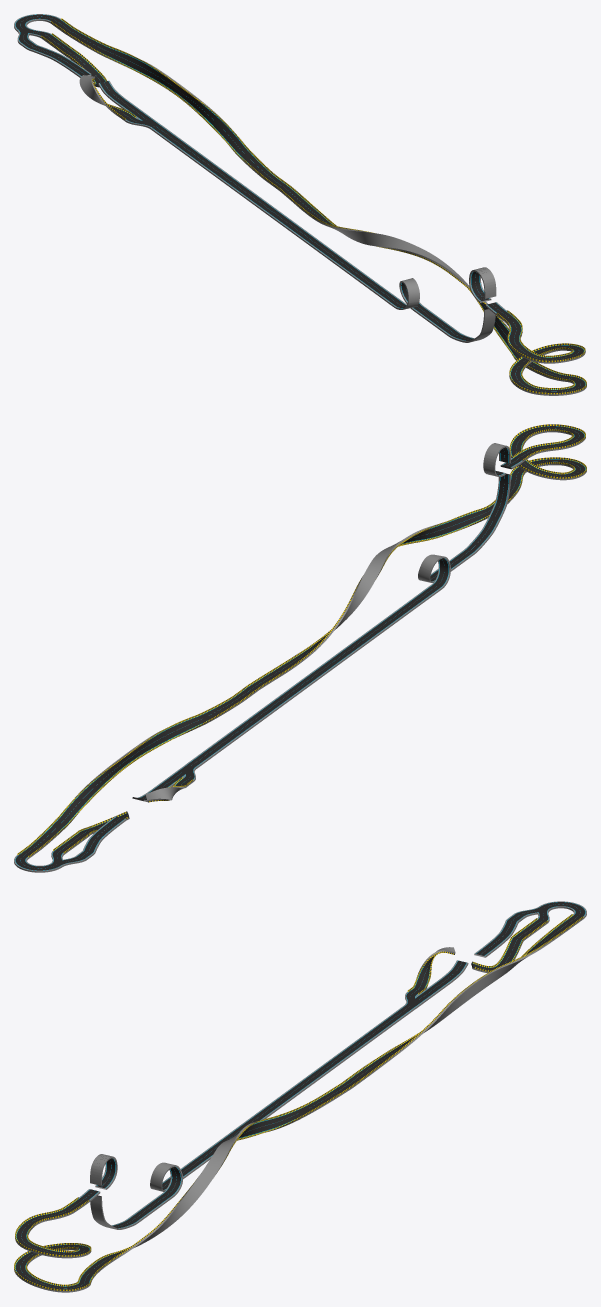
The model's file is Gravity Track Test 4.fbx.
3 views of the same model, one above another, from view 1: azimuth 30°, elevation 25°; view 2: azimuth 150°, elevation 25°; view 3: azimuth 330°, elevation 25° (orthographic).
Visible parts, largest first — view 1: Track Example .035, Track Example .031, Track Example .029, Straight Ahead Wall.067, Straight Ahead Wall.066, Track Example .032, Track Example .028, Track Example .027, Track Example .034, Track Example .030, Track Example .026; view 2: Track Example .035, Track Example .031, Track Example .029, Straight Ahead Wall.067, Track Example .034, Straight Ahead Wall.066, Track Example .028, Track Example .032; view 3: Track Example .035, Track Example .031, Straight Ahead Wall.067, Track Example .029, Straight Ahead Wall.066, Track Example .032, Track Example .027, Track Example .028, Track Example .034, Track Example .030.
Part boxes in pixels (box(x1,y1,x2,y2)): Track Example .035: box(270, 181, 586, 395); Track Example .031: box(150, 125, 452, 330); Track Example .029: box(51, 20, 283, 185); Straight Ahead Wall.067: box(271, 179, 586, 394); Straight Ahead Wall.066: box(51, 18, 285, 185); Track Example .032: box(469, 267, 496, 302); Track Example .028: box(19, 40, 91, 77); Track Example .027: box(41, 34, 105, 87); Track Example .034: box(441, 308, 495, 342); Track Example .030: box(98, 80, 146, 117); Track Example .026: box(79, 75, 134, 121); Track Example .035: box(241, 426, 586, 696); Track Example .031: box(185, 554, 467, 768); Track Example .029: box(17, 690, 252, 858); Straight Ahead Wall.067: box(239, 424, 586, 693); Track Example .034: box(456, 473, 510, 559); Straight Ahead Wall.066: box(17, 688, 254, 856); Track Example .028: box(76, 816, 126, 859); Track Example .032: box(483, 443, 510, 476); Track Example .035: box(14, 1078, 359, 1292); Track Example .031: box(134, 1005, 415, 1217); Straight Ahead Wall.067: box(14, 1076, 361, 1290); Track Example .029: box(348, 915, 583, 1083); Straight Ahead Wall.066: box(347, 914, 583, 1081); Track Example .032: box(90, 1154, 117, 1189); Track Example .027: box(471, 919, 547, 972); Track Example .028: box(474, 913, 525, 957); Track Example .034: box(90, 1195, 144, 1229); Track Example .030: box(419, 960, 468, 998).
Size of the model in its own units: 286 by 333 by 3340.
